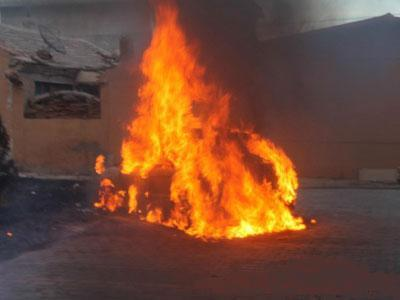fire: (105, 2, 315, 241)
